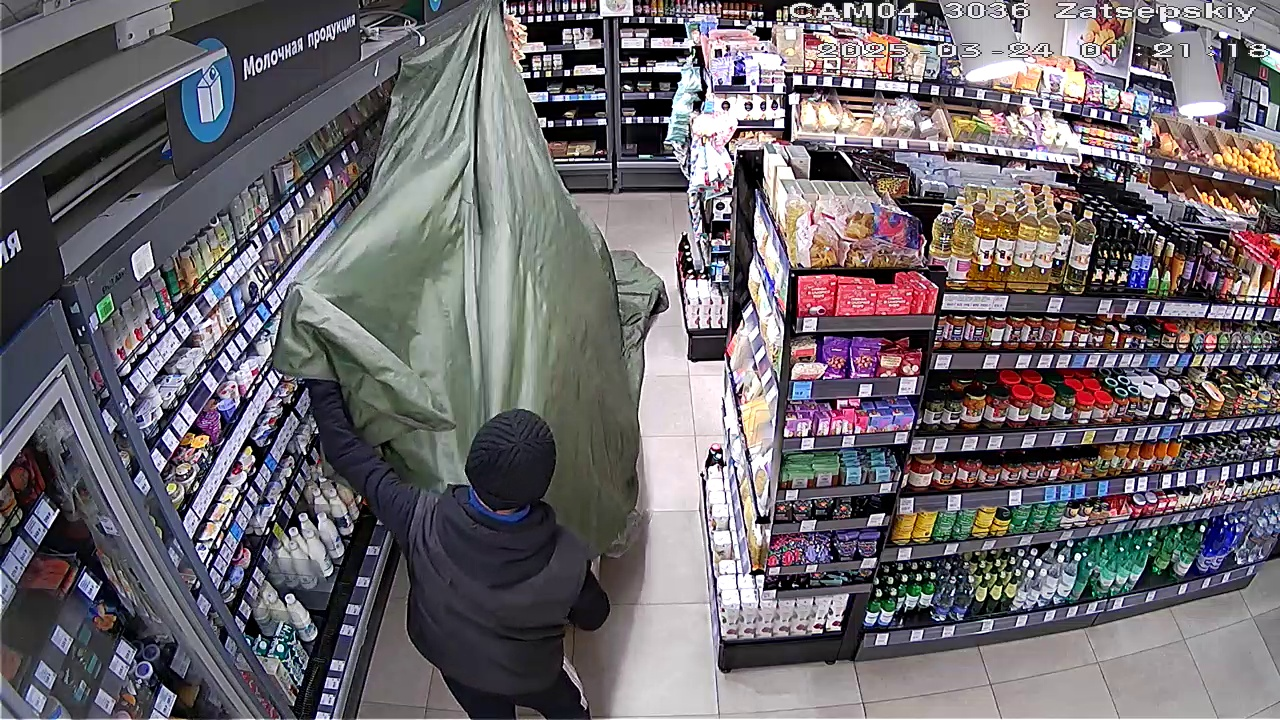Human: (302, 361, 583, 713)
dome: (260, 3, 648, 356)
